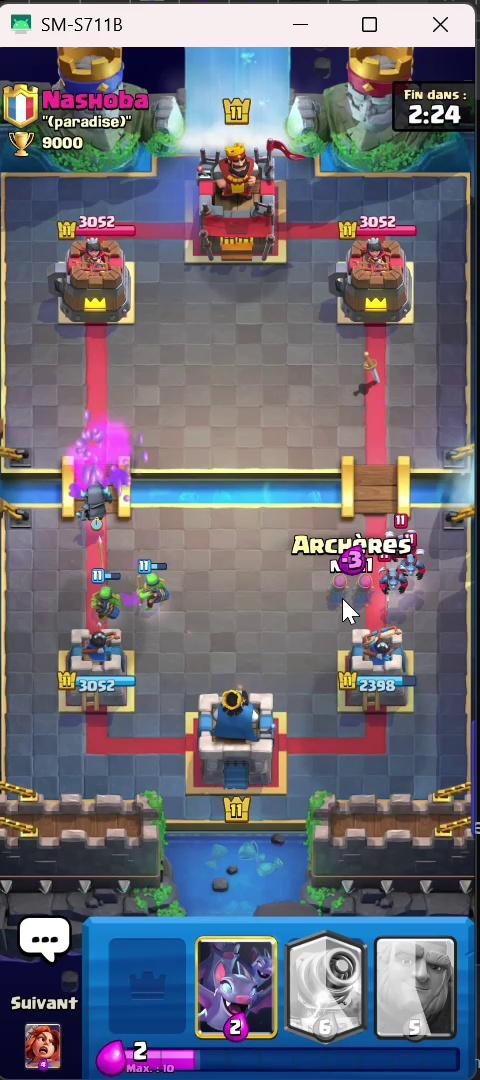archere: (327, 573, 354, 608), (352, 577, 377, 606)
gargouille: (386, 516, 421, 553), (376, 565, 413, 592), (407, 548, 429, 577)
gobelin_lances: (135, 564, 190, 622), (87, 567, 121, 628)
mini_PEKKA: (77, 480, 126, 545)
